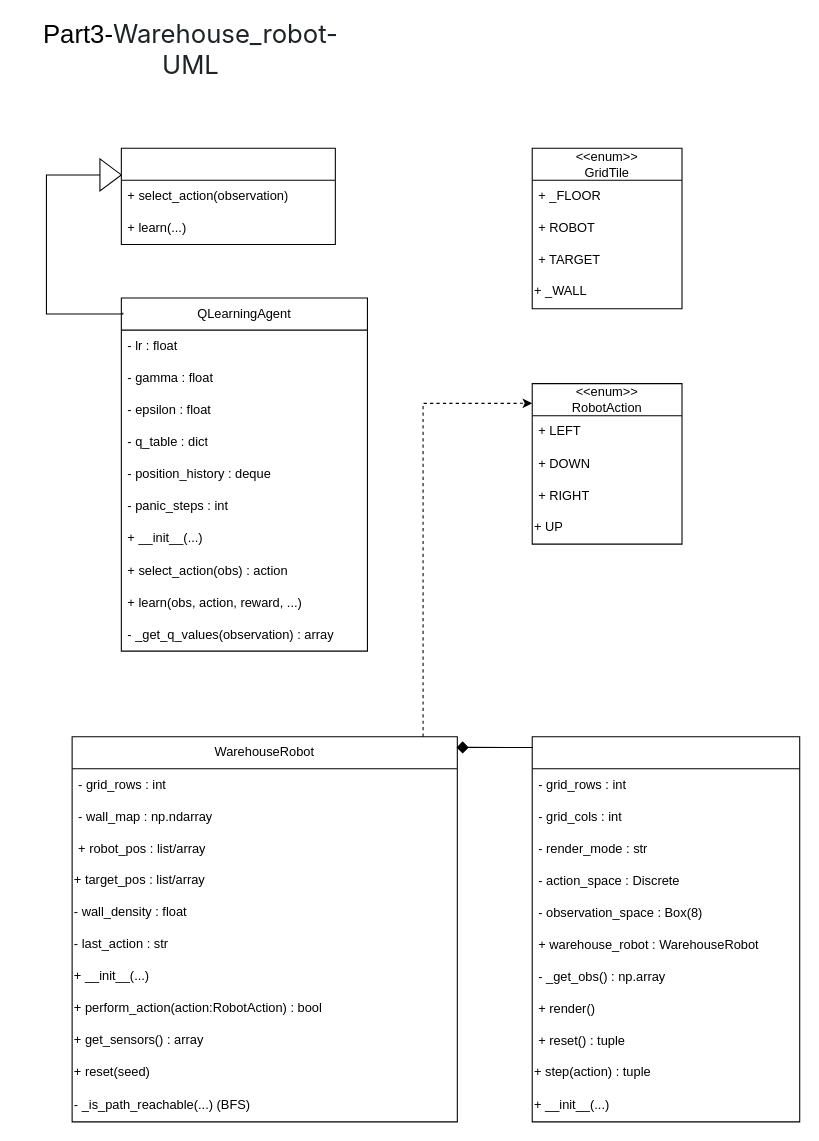
The diagram is 819 pixels wide and 1141 high, and some of its shapes have lost their labels. Each missing label, with the box of its shape:
<<abstract>> Agent: (120, 147, 335, 244)
WarehouseRobotEnv: (531, 736, 800, 1122)
